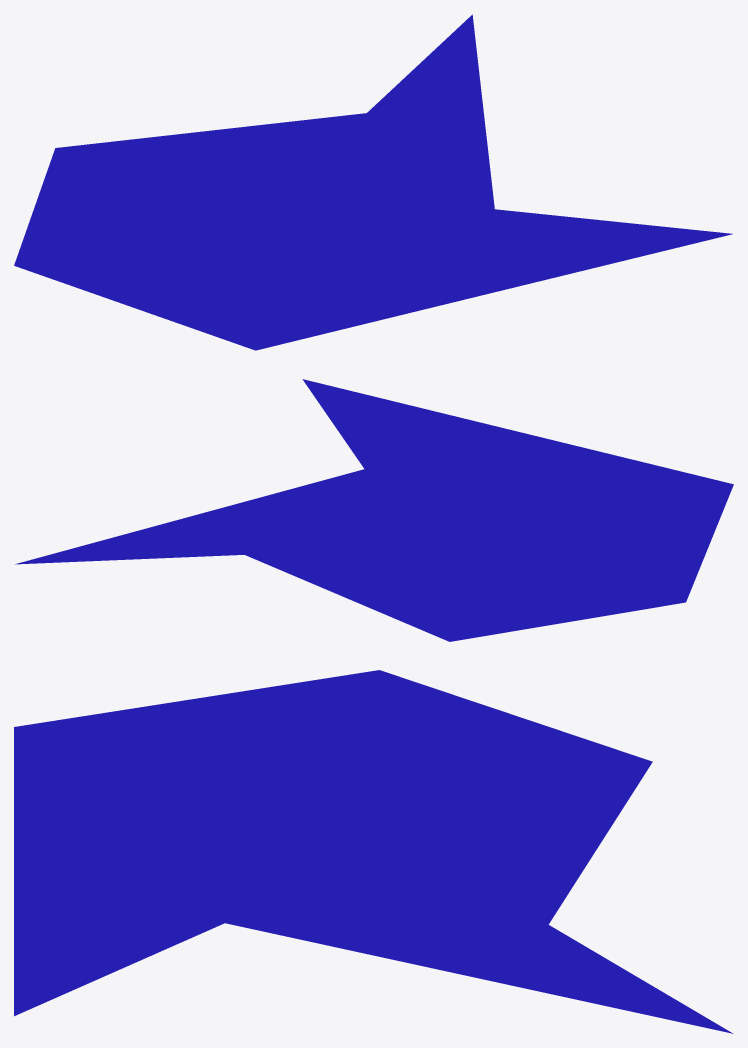
The model's file is suelo_agua_p2.fbx.
The picture shows the model from 3 angles, top to bottom: view 1: azimuth 30°, elevation 25°; view 2: azimuth 150°, elevation 25°; view 3: azimuth 270°, elevation 25°; orthographic projection. The views are drawn at different scales.
Parts seen in each view (by area): view 1: Cylinder005; view 2: Cylinder005; view 3: Cylinder005.
Boxes of the visible parts, x1=… form: Cylinder005: x1=14, y1=14, x2=732, y2=350; Cylinder005: x1=15, y1=379, x2=733, y2=641; Cylinder005: x1=14, y1=670, x2=733, y2=1033.
Bounding box in the file's own units: 54.7 × 3.12e-07 × 45.73.
